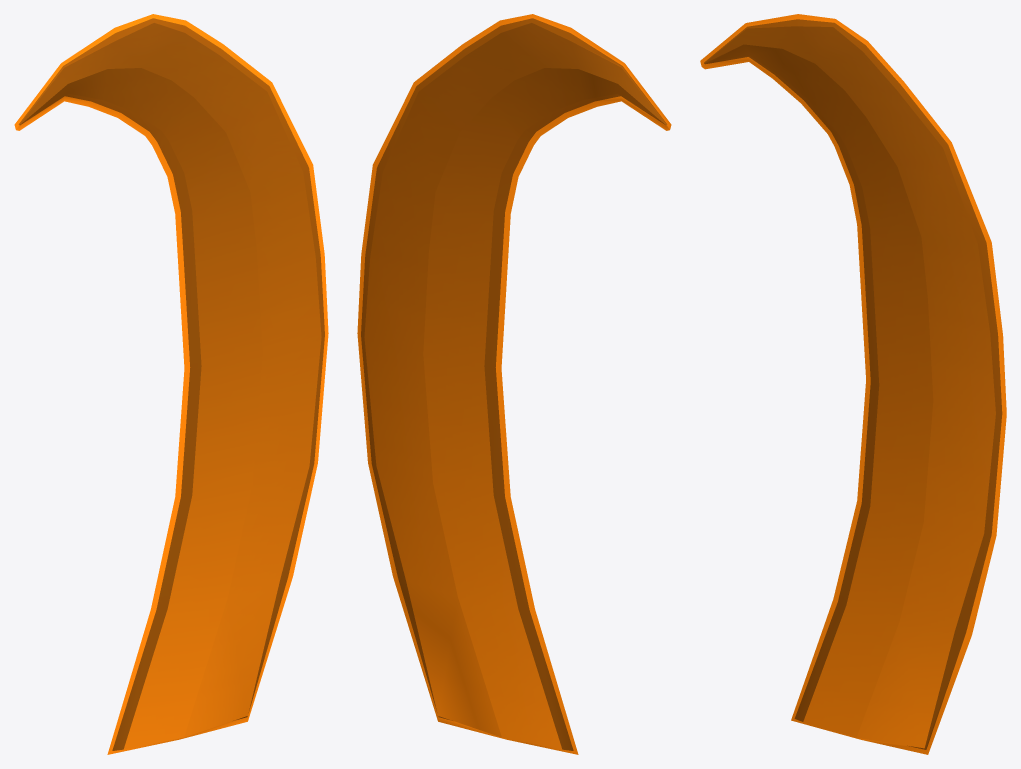
File: bronze_blade (19).glb
3 renders of one model, left to right at view 1: azimuth 30°, elevation 25°; view 2: azimuth 150°, elevation 25°; view 3: azimuth 330°, elevation 25°, orthographic. The views are drawn at different scales.
Visible parts, largest first — view 1: bronze_blade_steel.024; view 2: bronze_blade_steel.024; view 3: bronze_blade_steel.024.
Part boxes in pixels (left/top/right/bottom): bronze_blade_steel.024: left=14, top=14, right=328, bottom=754; bronze_blade_steel.024: left=357, top=14, right=671, bottom=754; bronze_blade_steel.024: left=700, top=14, right=1006, bottom=754.
Size of the model in its own units: 4.65 by 10.35 by 0.241.
1 material, 1 textured.
